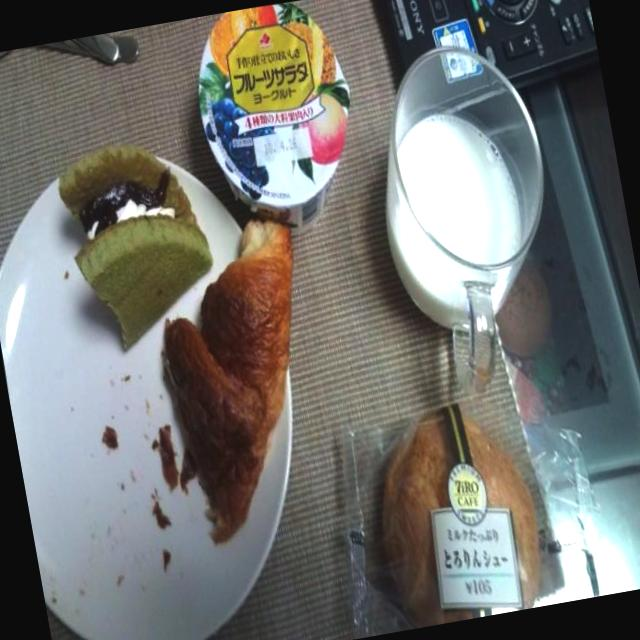Croissant: (147, 228, 340, 550)
